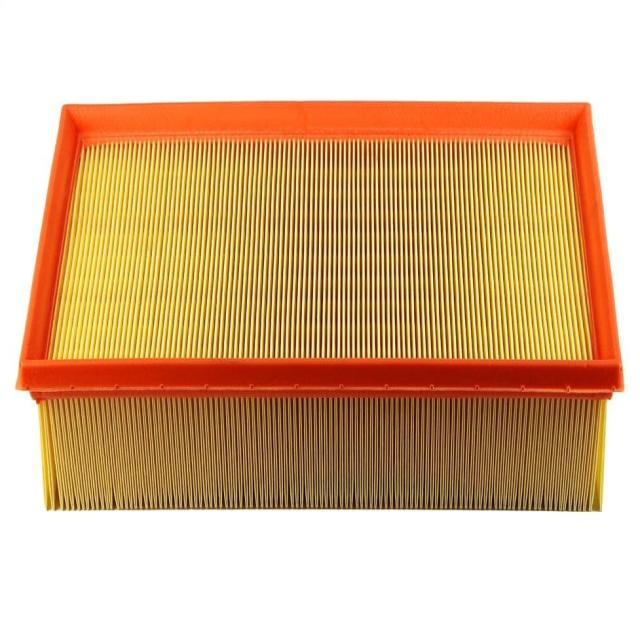air_filter: (12, 92, 630, 518)
